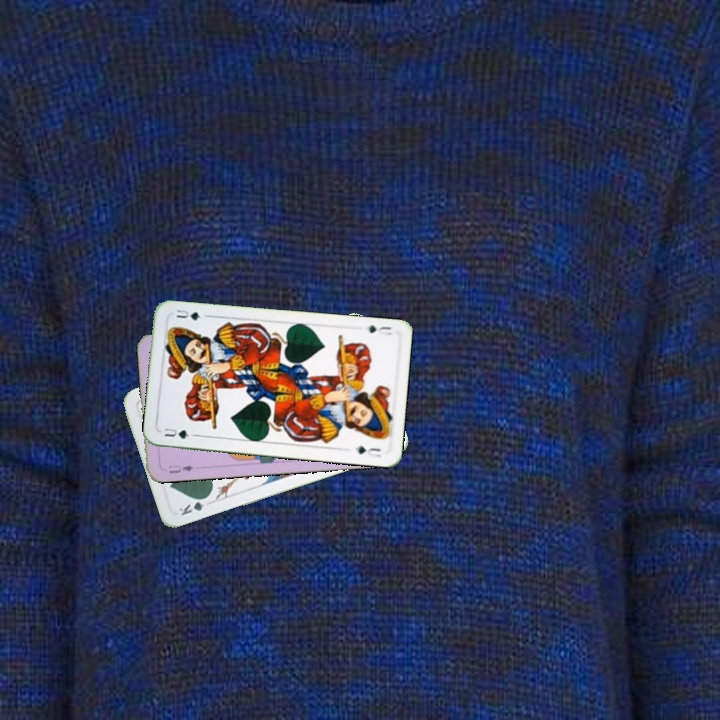EU: (164, 461, 196, 476)
GK: (175, 493, 212, 518)
GU: (160, 424, 191, 441), (364, 321, 395, 338)
